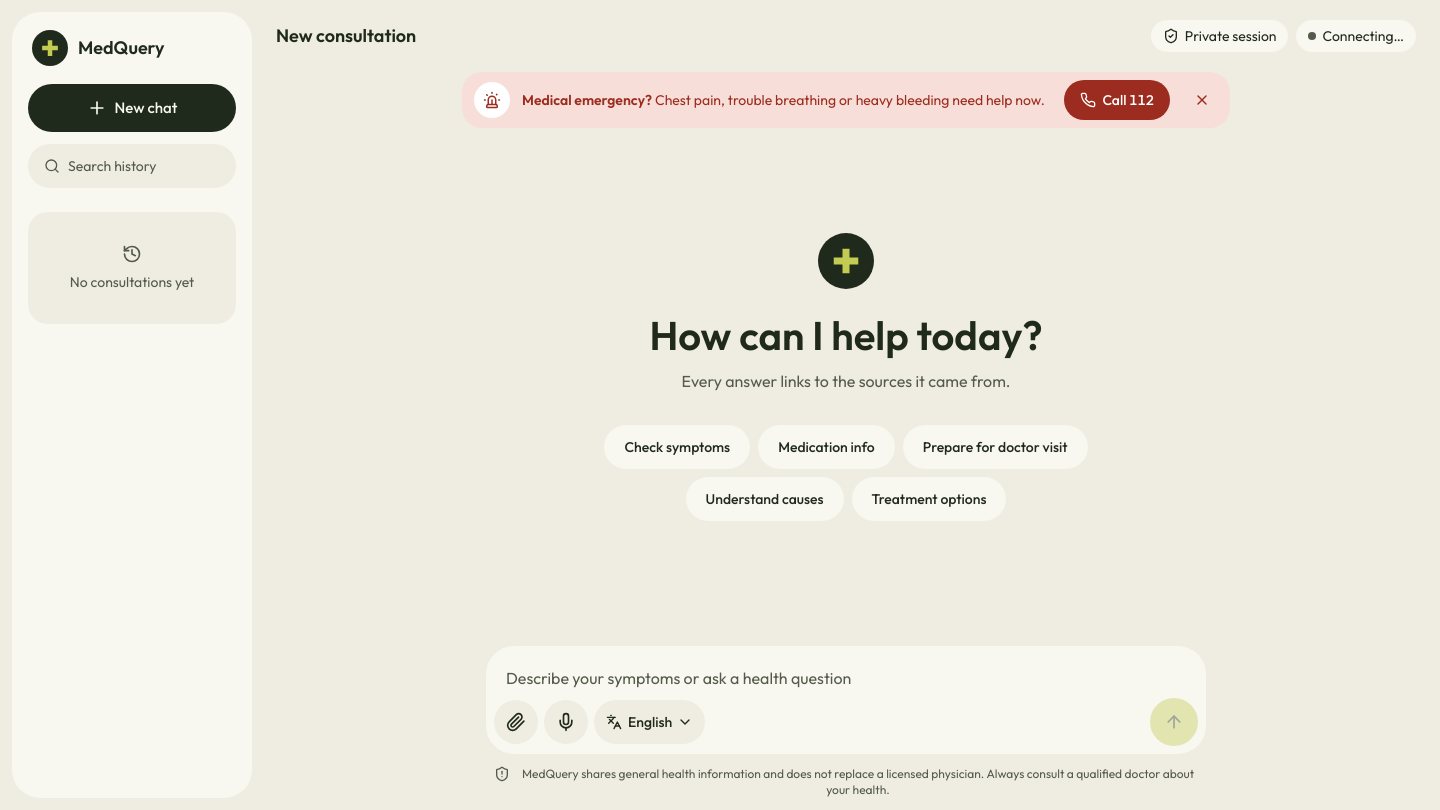
new chat clears the conversation
In the text box named "Your medical question": (846, 676) [494,654,1198,698], type "What is the placeholder?"
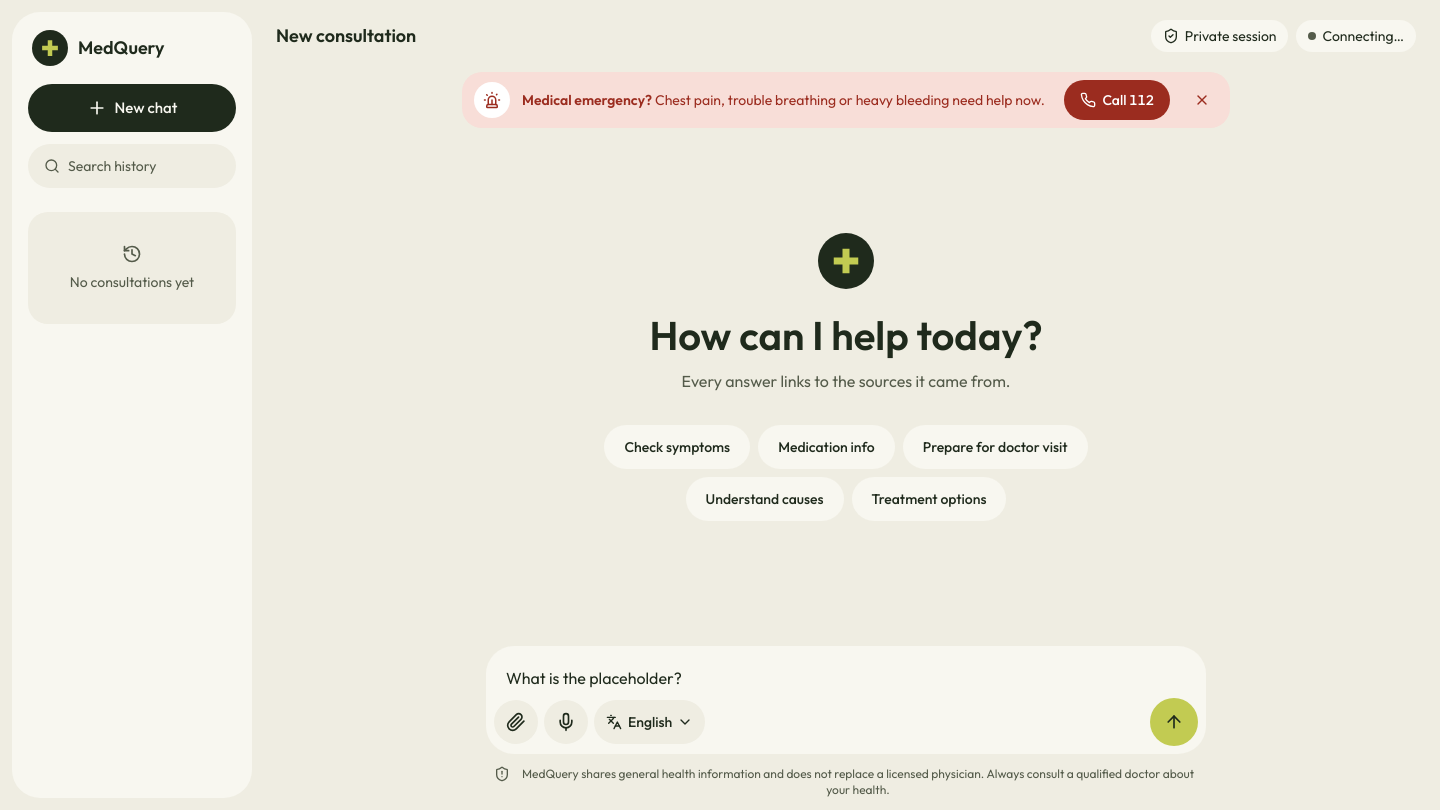
Submit the form named "Your medical question", box [486,646,1206,754]
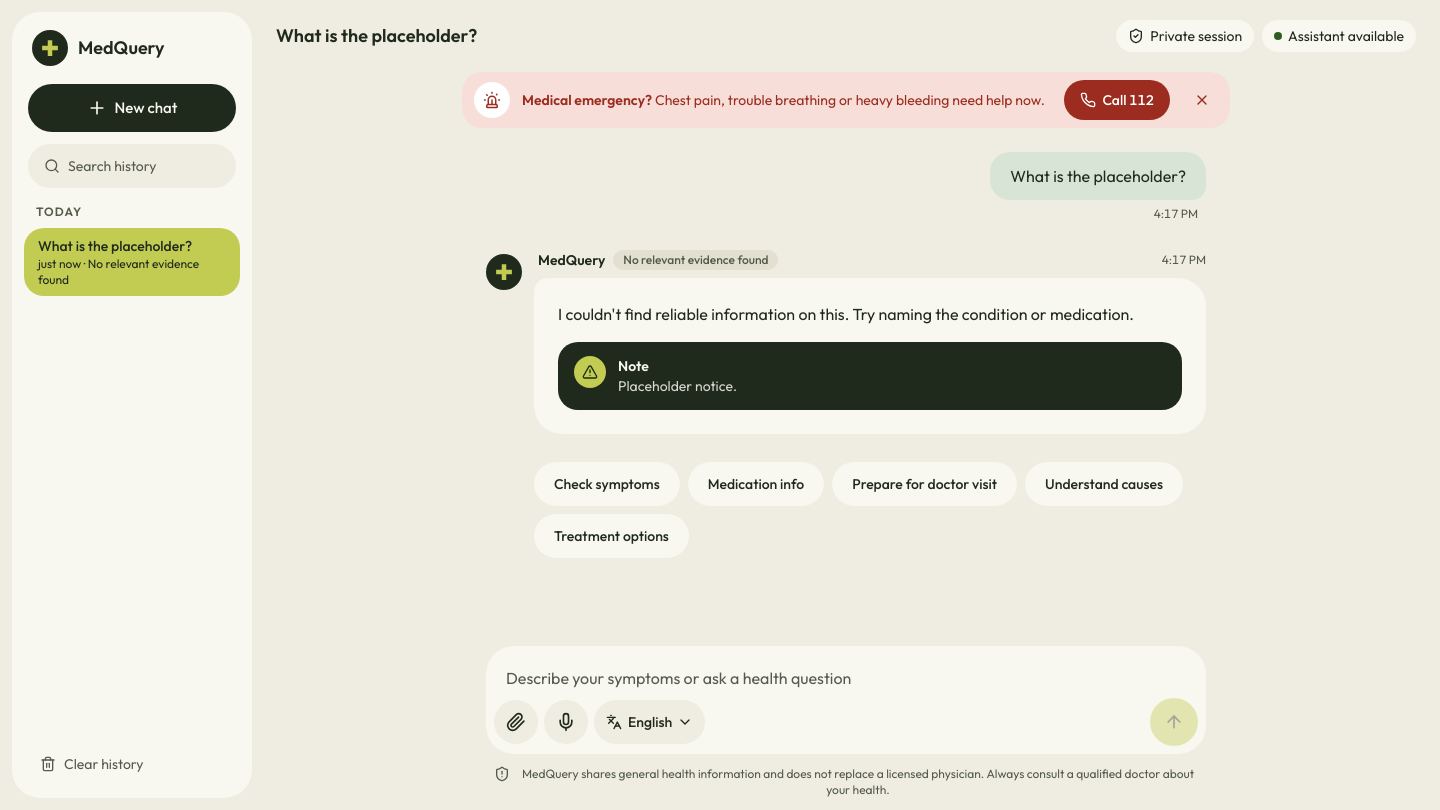
Now the text "No relevant evidence found" is shown, box [613,250,778,270]
Click the button "New chat": click(132, 108) [28,84,236,132]
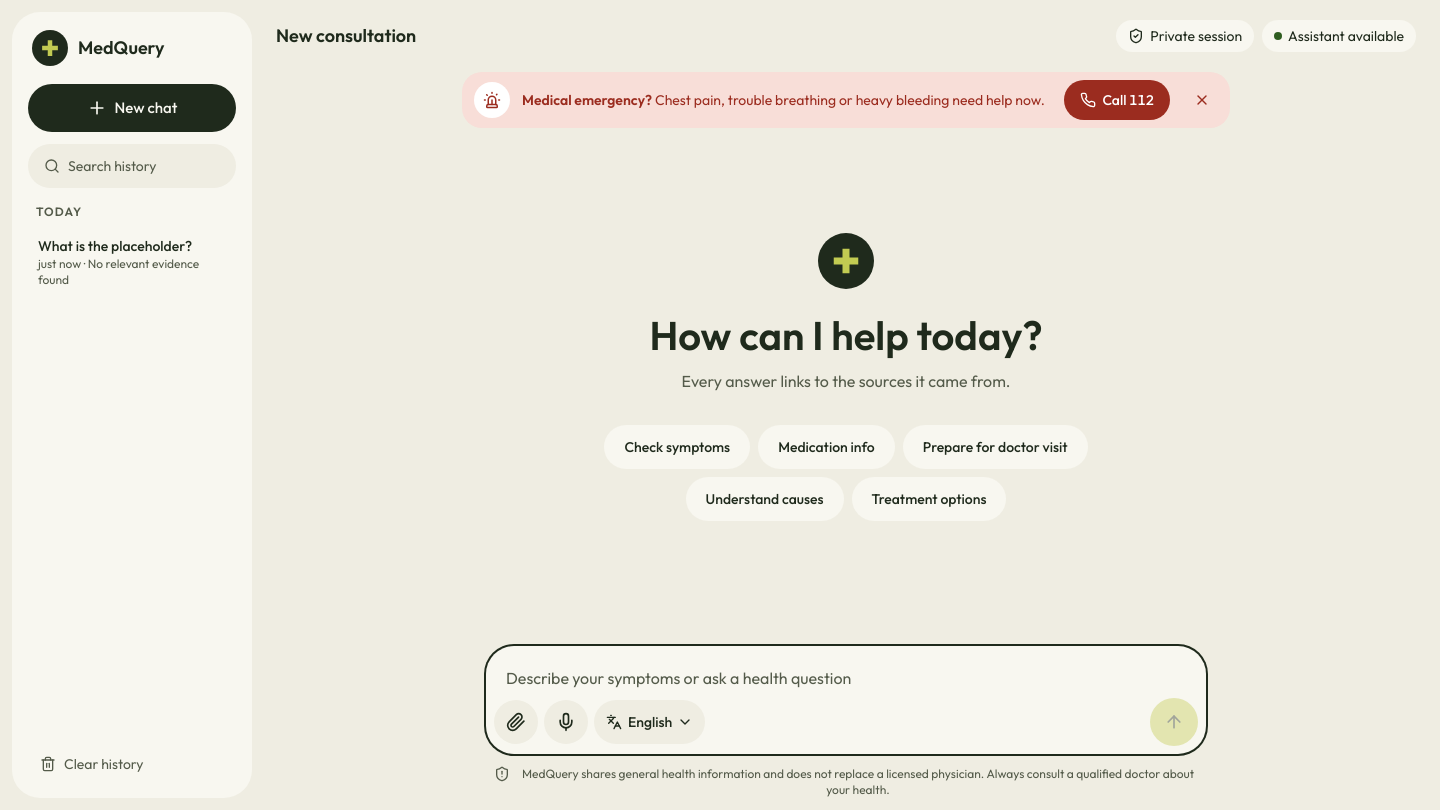
Now the element with test id "user-message" is gone
Now the heading "How can I help today?" is shown, box [649,313,1042,357]
